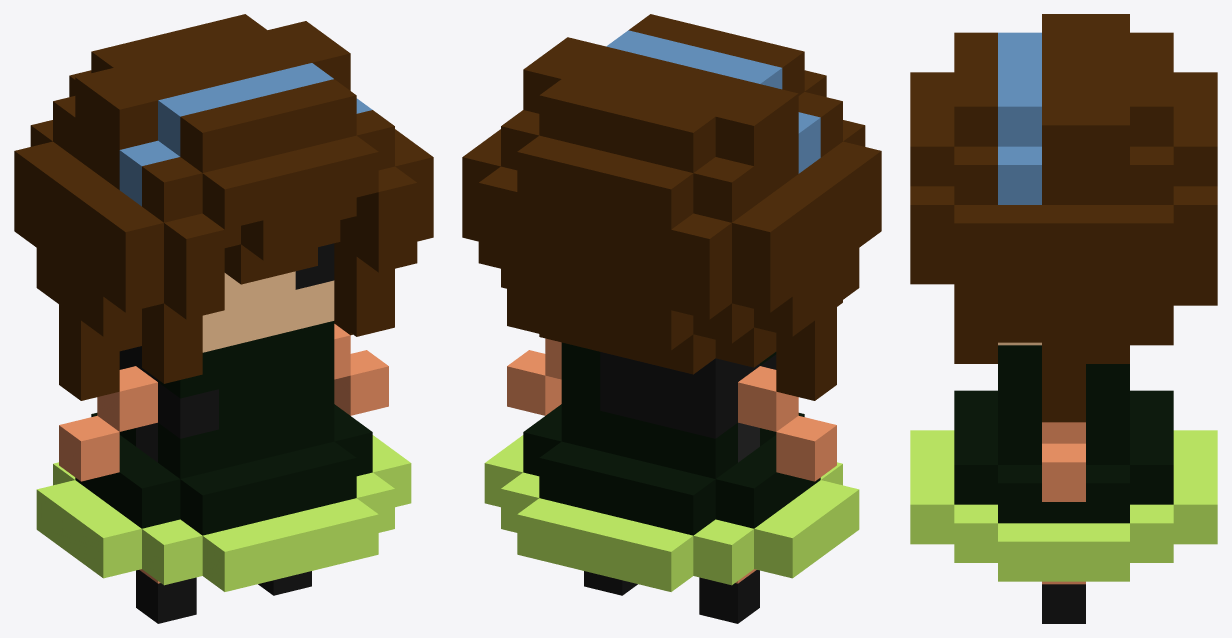
File: girl.obj
3 views of the same model, side by side, from view 1: azimuth 30°, elevation 25°; view 2: azimuth 150°, elevation 25°; view 3: azimuth 270°, elevation 25° (orthographic).
Bounding box in the file's own units: 8 × 13 × 7.
Materials: 1 (1 with a texture image).
